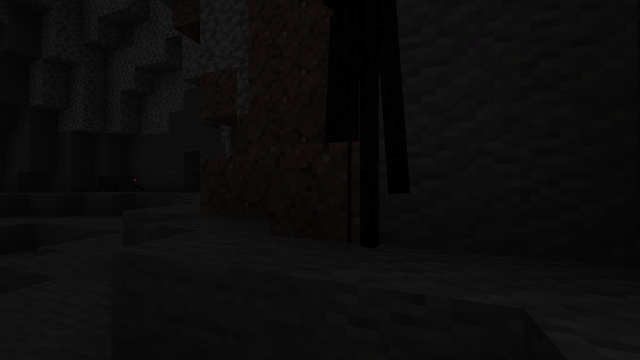araignees: (94, 173, 143, 192)
endermens: (320, 1, 393, 254)
